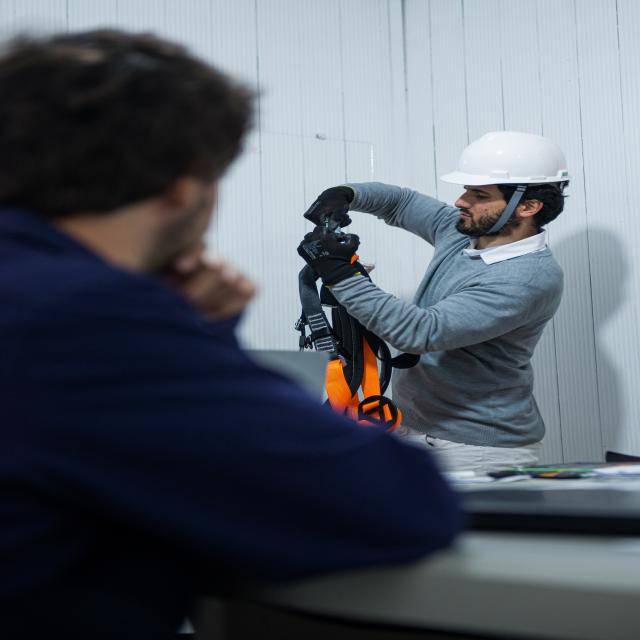capacete: (436, 128, 575, 190)
luva: (294, 230, 366, 290), (301, 185, 358, 229)
